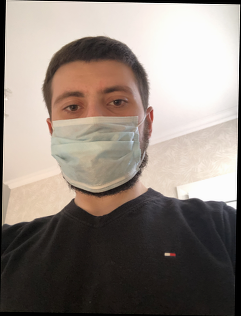with_mask: (49, 79, 149, 199)
